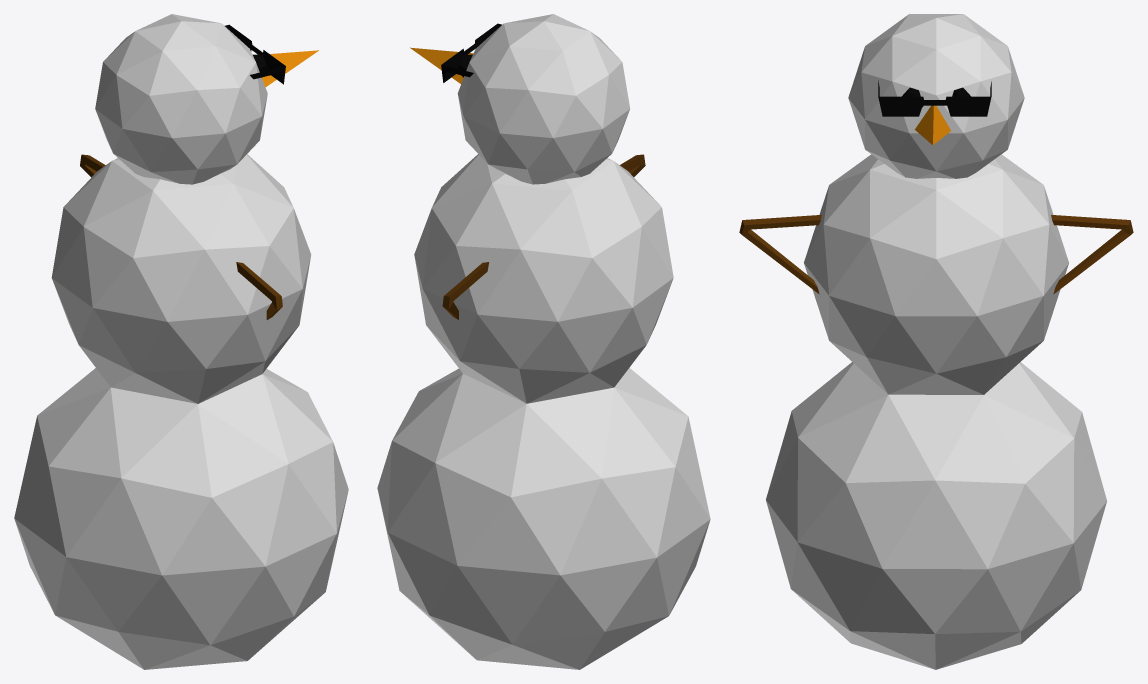
Rendered from coolSnowman.glb.
3 views of the same model, side by side, from view 1: azimuth 30°, elevation 25°; view 2: azimuth 150°, elevation 25°; view 3: azimuth 270°, elevation 25° (orthographic).
Parts seen in each view (by area): view 1: CoolThingsInSnowman; view 2: CoolThingsInSnowman; view 3: CoolThingsInSnowman.
Boxes of the visible parts, x1,y1,x2,y2 form: CoolThingsInSnowman: (14, 14, 348, 669); CoolThingsInSnowman: (377, 14, 710, 669); CoolThingsInSnowman: (739, 14, 1133, 669).
Bounding box in the file's own units: 3.69 × 7.97 × 4.47.
